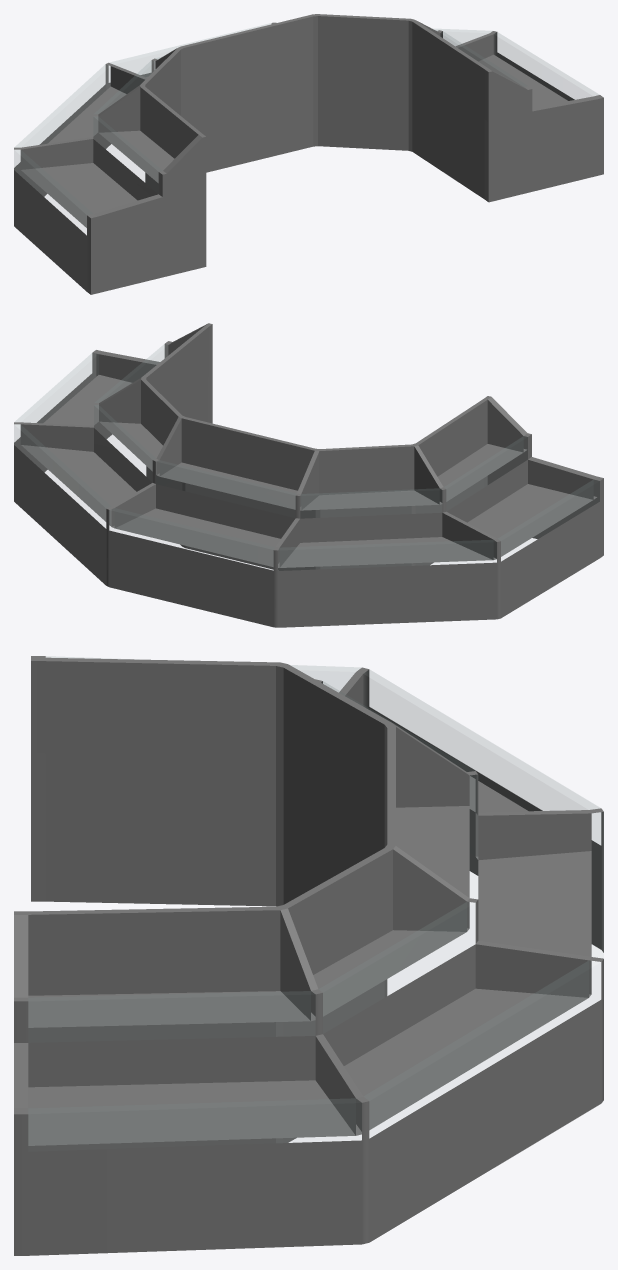
The model's file is FishMonger.fbx.
3 views of the same model, one above another, from view 1: azimuth 30°, elevation 25°; view 2: azimuth 150°, elevation 25°; view 3: azimuth 270°, elevation 25° (orthographic). The views are drawn at different scales.
Parts seen in each view (by area): view 1: pCube54; view 2: pCube54; view 3: pCube54.
Boxes of the visible parts, x1,y1,x2,y2 form: pCube54: (14,14,603,294); pCube54: (14,323,603,627); pCube54: (14,656,603,1255).
Bounding box in the file's own units: 33.56 × 8.21 × 18.26.
2 materials, 1 textured.
